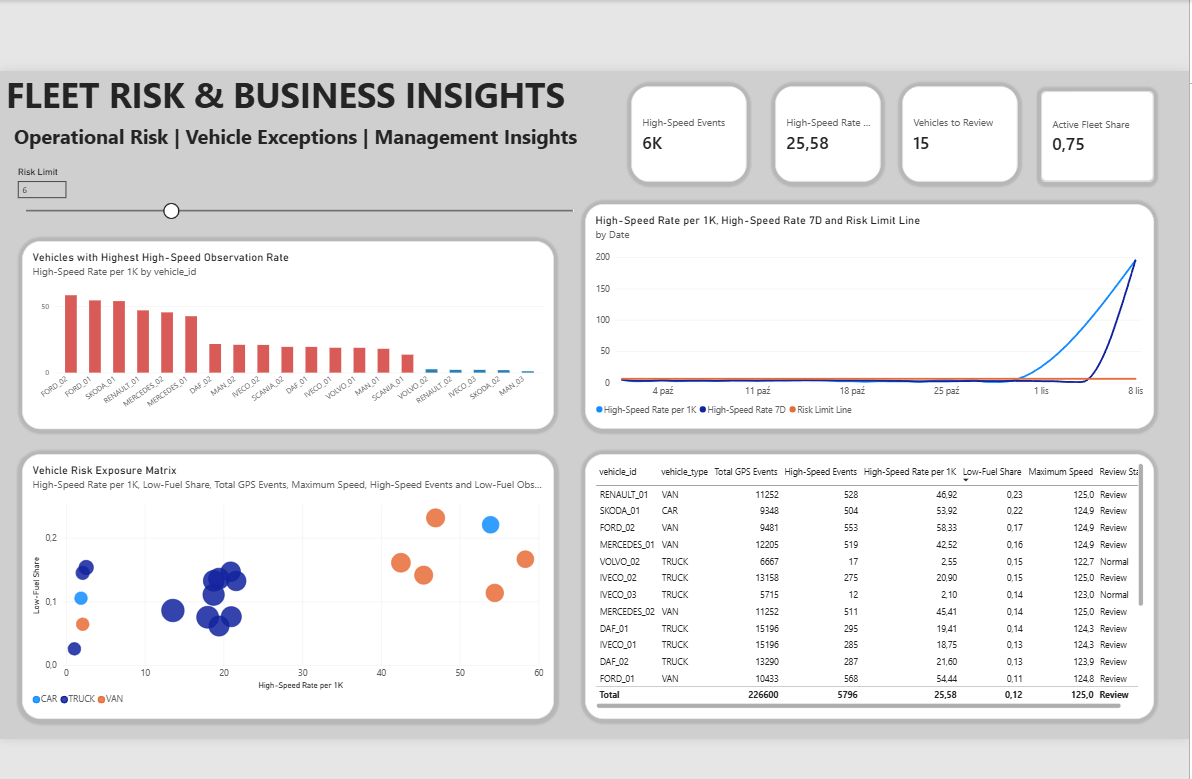

Layout of this report page (visuals, bound fields, positions):
{"tool":"powerbi","page":{"name":"Fleet Risk & Operational Insights","canvas":[1920,1080],"ordinal":2},"visuals":[{"type":"textbox","box":[10.2,0,923.5,81.7],"z":0},{"type":"textbox","box":[21.9,81.7,922.1,54],"z":1},{"type":"slicer","fields":{"Values":["Risk Limit.Risk Limit"]},"box":[21,155,922,150],"z":2},{"type":"cardVisual","fields":{"Data":["fleet gps_events.High-Speed Events"]},"box":[1018.9,24.2,187.3,155],"z":3},{"type":"cardVisual","fields":{"Data":["Calendar.High-Speed Rate per 1K"]},"box":[1251.5,24.2,171.2,155],"z":4},{"type":"cardVisual","fields":{"Data":["Calendar.Vehicles to Review"]},"box":[1456.6,24.2,187.3,155],"z":5},{"type":"cardVisual","fields":{"Data":["Calendar.Active Fleet Share"]},"box":[1681,32.3,182.5,146.9],"z":6},{"type":"lineChart","fields":{"Category":["Calendar.Date"],"Y":["Calendar.High-Speed Rate per 1K","Calendar.High-Speed Rate 7D","Calendar.Risk Limit Line"]},"box":[944.7,214.8,918.8,363.3],"z":7},{"type":"clusteredColumnChart","title":"Vehicles with Highest High-Speed Observation Rate","fields":{"Category":["fleet vehicles.vehicle_id"],"Y":["Calendar.High-Speed Rate per 1K"]},"box":[35.5,274.5,859.1,303.6],"z":8},{"type":"scatterChart","title":"Vehicle Risk Exposure Matrix","fields":{"Category":["fleet vehicles.vehicle_id"],"Series":["fleet vehicles.vehicle_type"],"Size":["fleet gps_events.Total GPS Events"],"X":["Calendar.High-Speed Rate per 1K"],"Y":["Calendar.Low-Fuel Share"]},"box":[35.5,618.5,859.1,427.9],"z":9},{"type":"tableEx","fields":{"Values":["fleet vehicles.vehicle_id","fleet vehicles.vehicle_type","fleet gps_events.Total GPS Events","fleet gps_events.High-Speed Events","Calendar.High-Speed Rate per 1K","Calendar.Low-Fuel Share","fleet gps_events.Maximum Speed","Calendar.Review Status"]},"box":[944.7,618.5,918.8,427.9],"z":10}]}

Visuals, with their boxes on the page's 1920x1080 design canvas (x1, y1, x2, y2). These are canvas units, not pixel positions in the 1192x779 screenshot, which may show the page scaled, cropped or inside an application window:
textbox: crop(10, 0, 934, 82)
textbox: crop(22, 82, 944, 136)
slicer - Risk Limit.Risk Limit: crop(21, 155, 943, 305)
cardVisual - fleet gps_events.High-Speed Events: crop(1019, 24, 1206, 179)
cardVisual - Calendar.High-Speed Rate per 1K: crop(1252, 24, 1423, 179)
cardVisual - Calendar.Vehicles to Review: crop(1457, 24, 1644, 179)
cardVisual - Calendar.Active Fleet Share: crop(1681, 32, 1864, 179)
lineChart - Calendar.Date x Calendar.High-Speed Rate per 1K: crop(945, 215, 1864, 578)
"Vehicles with Highest High-Speed Observation Rate" clusteredColumnChart: crop(36, 274, 895, 578)
"Vehicle Risk Exposure Matrix" scatterChart: crop(36, 618, 895, 1046)
tableEx - fleet vehicles.vehicle_id x fleet vehicles.vehicle_type: crop(945, 618, 1864, 1046)
